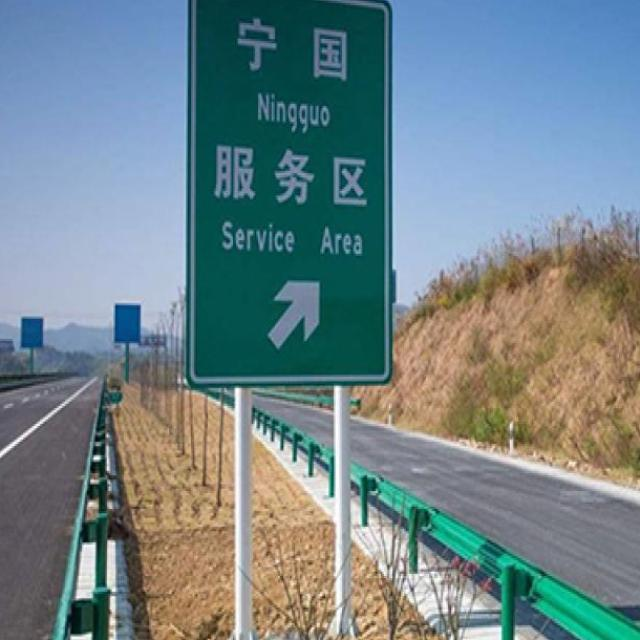Guard rail: (351, 466, 640, 640), (52, 384, 107, 640), (254, 407, 334, 477)
